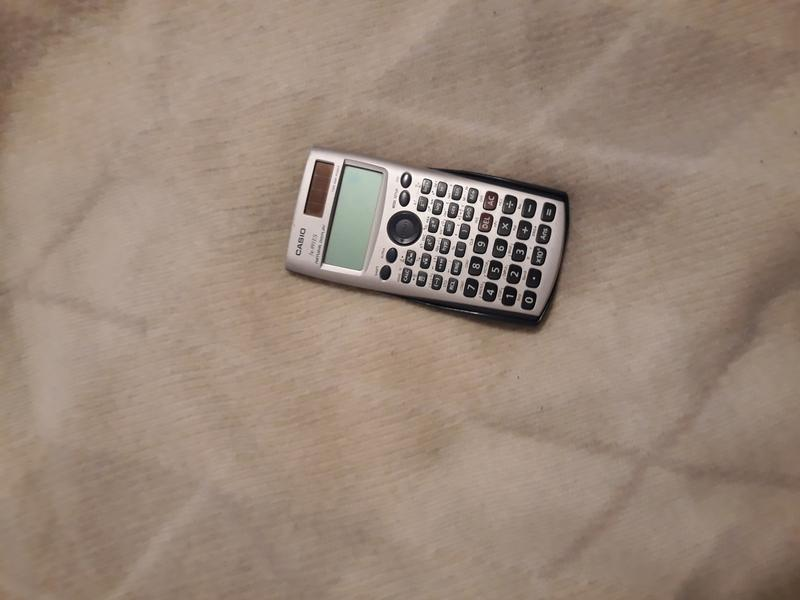CASIO_fx_991ES: (282, 129, 584, 339)
